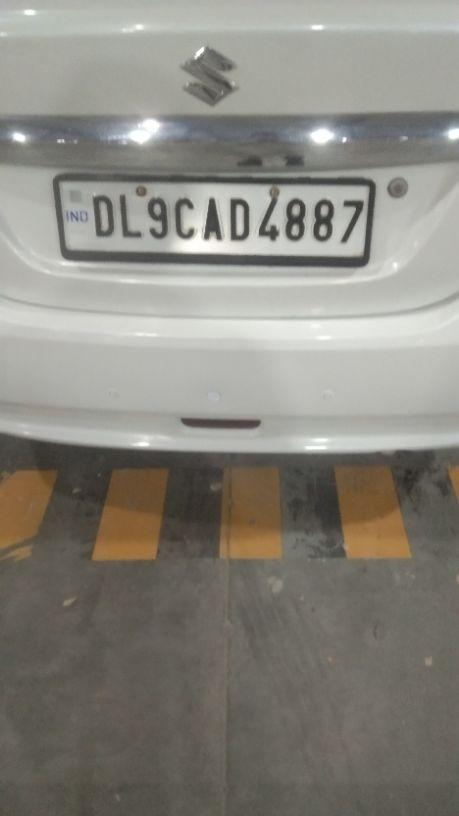license_plate: (0, 0, 458, 455), (52, 171, 376, 267)
